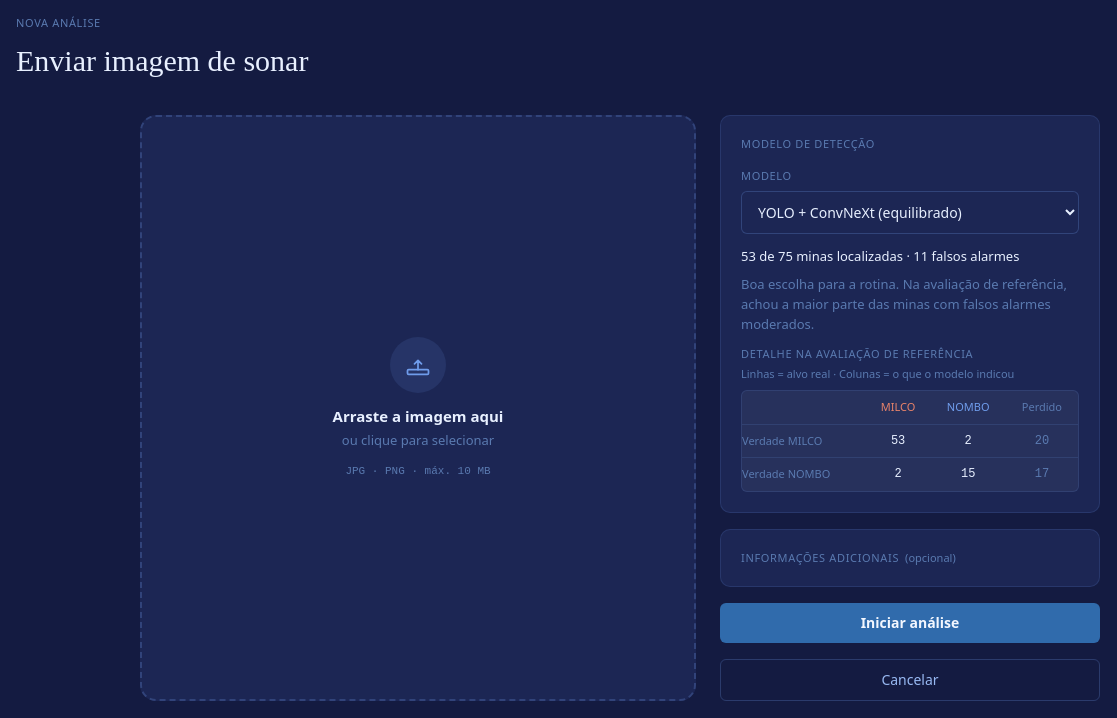
NovaAnalisePage › shows classifier-only summary without confusion matrix for mobilevit fusion
Select "YOLO A + fusão ConvNeXt/MobileViTv2" in the dropdown labelled "Modelo" at (910, 212), box [741,190,1079,234]
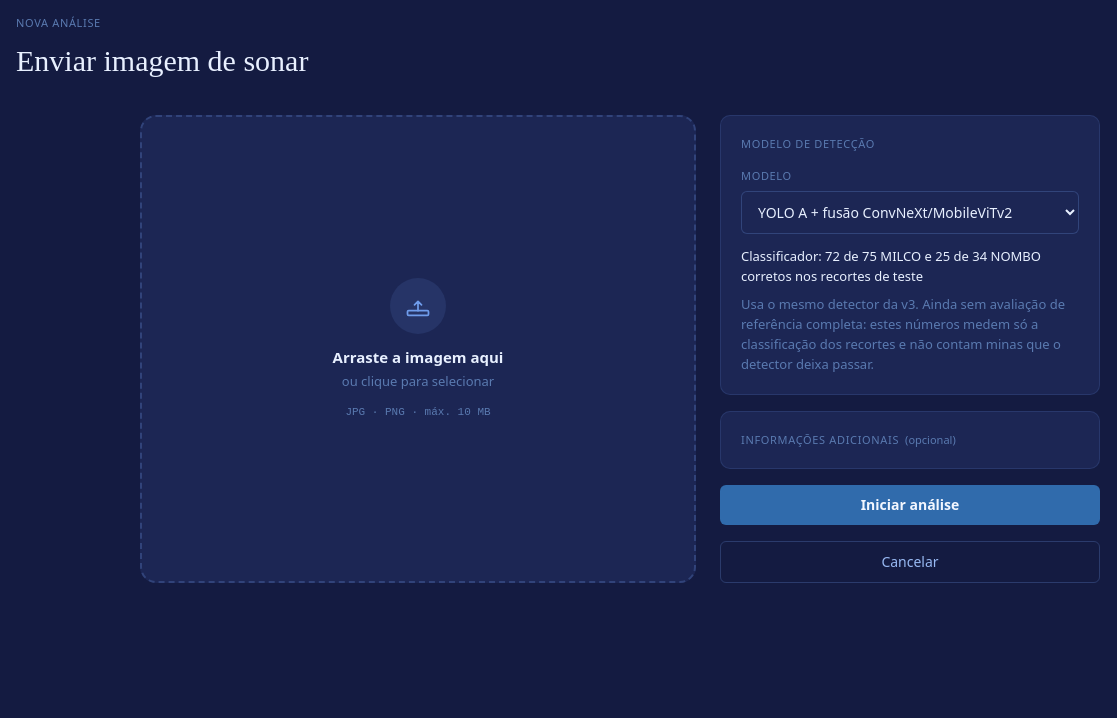
Now the text "Classificador: 72 de 75 MILCO e 25 de 34 NOMBO corretos nos recortes de teste" is shown, box [741,246,1079,286]
Now the text "Detalhe na avaliação de referência" is gone
